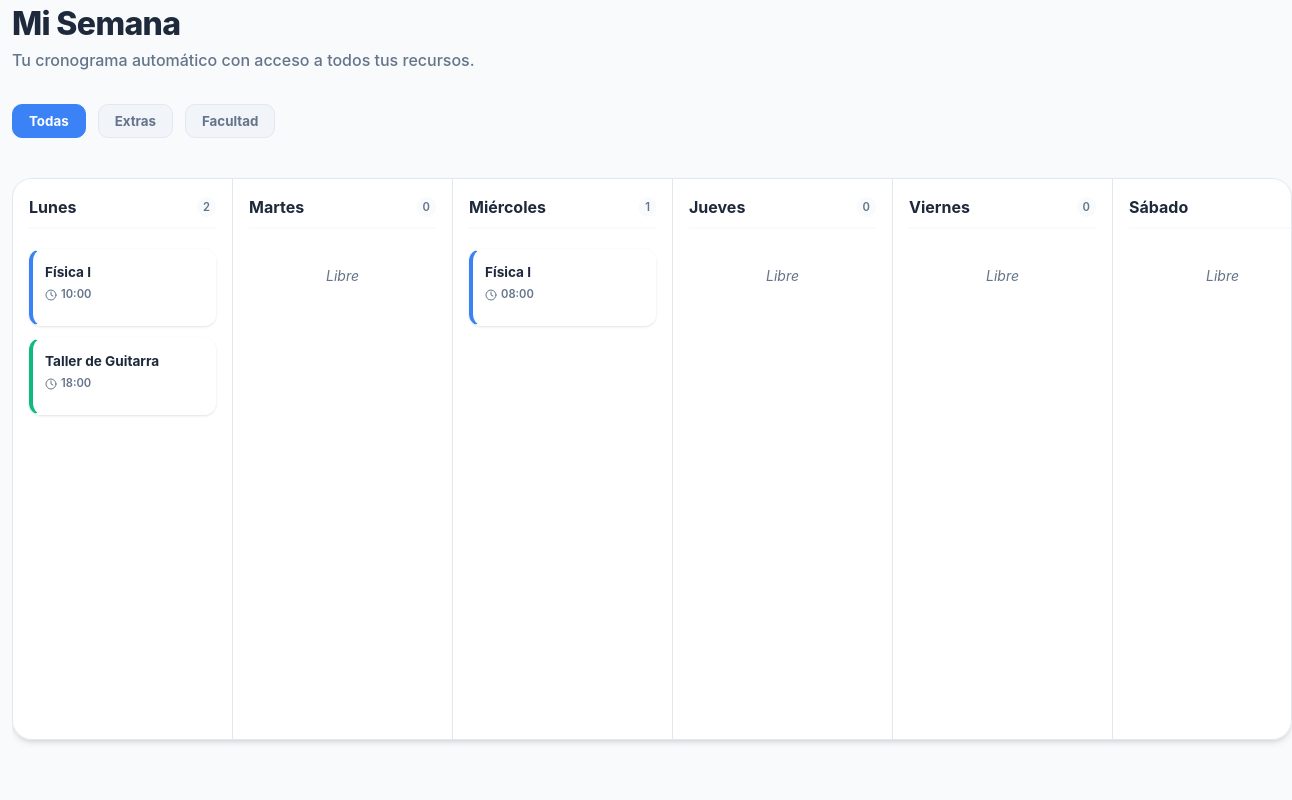
Test: WeeklyBoard component › filters activities when clicking category tabs
Click the button "Extras".
click(135, 121)  # box [98,104,173,138]
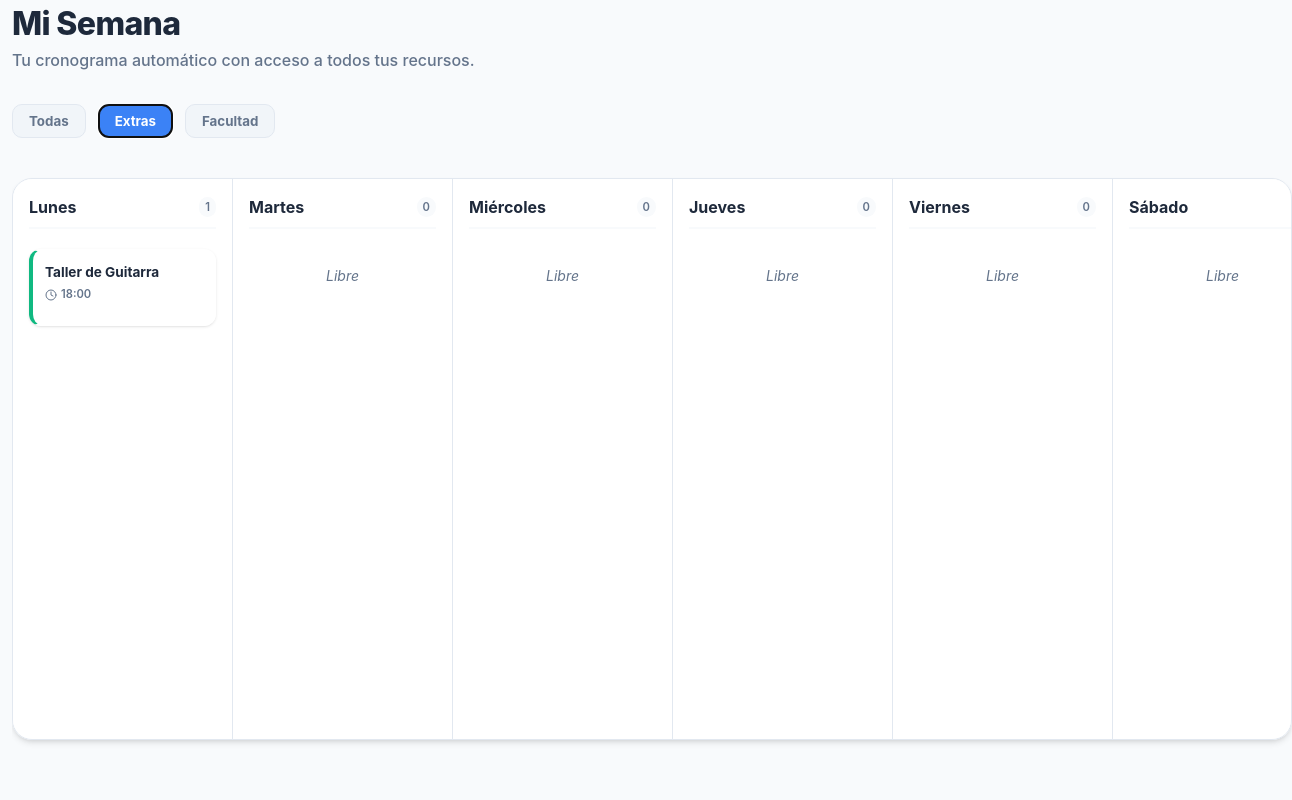
Expected: the text "Taller de Guitarra" is shown, [45,262,159,282]
Now the button "Física I" is gone
